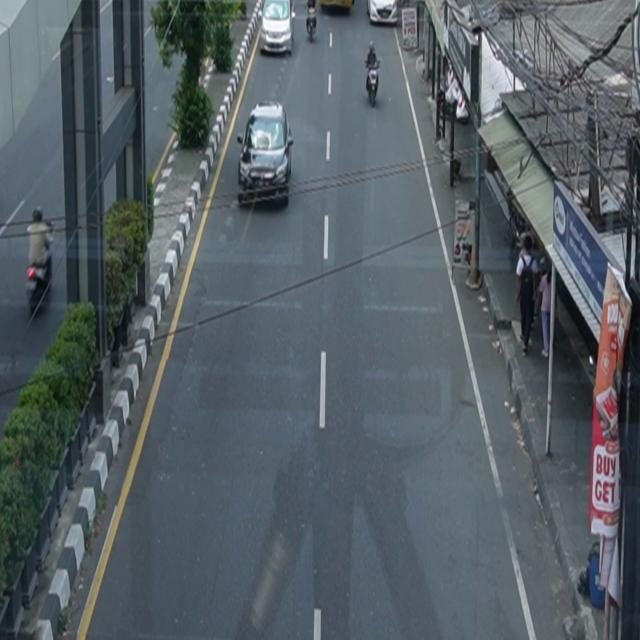car: (237, 100, 295, 208), (260, 1, 296, 57), (368, 1, 399, 26)
